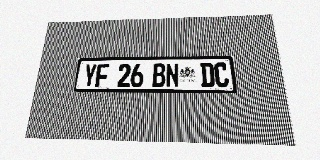2: (117, 63, 131, 87)
6: (130, 63, 144, 87)
B: (152, 63, 165, 87)
C: (214, 62, 229, 87)
D: (200, 63, 215, 87)
F: (95, 64, 109, 87)
N: (166, 63, 179, 87)
Y: (82, 64, 97, 87)
